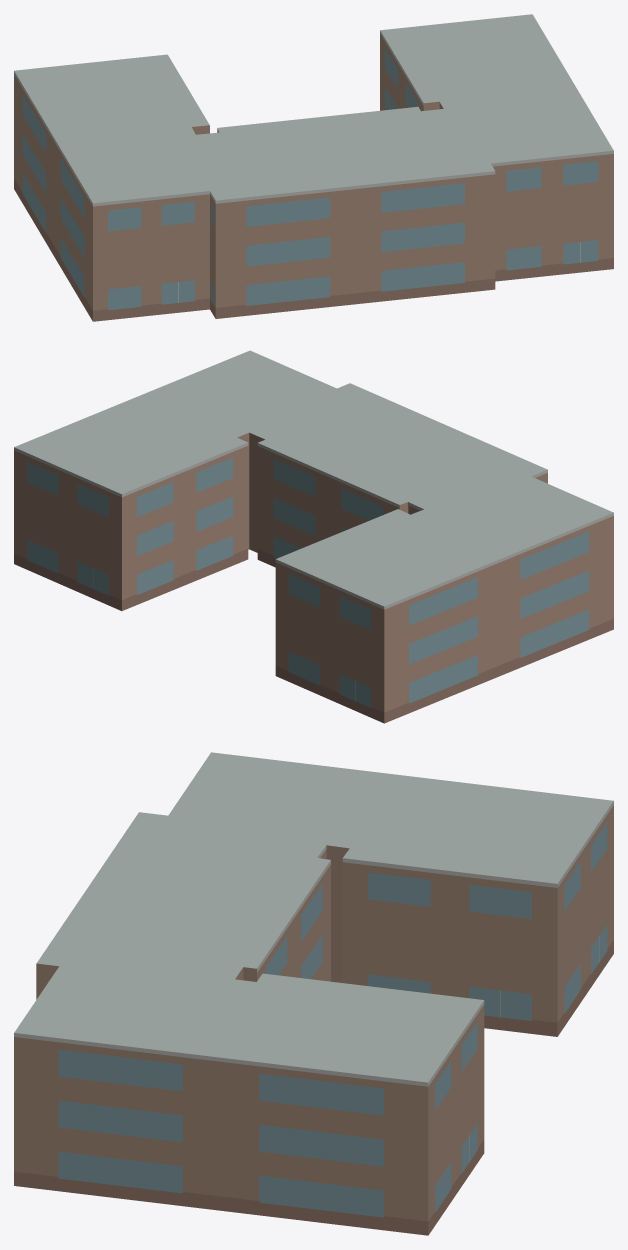
File: survey-upis-32808510.glb
The picture shows the model from 3 angles, top to bottom: view 1: azimuth 30°, elevation 25°; view 2: azimuth 150°, elevation 25°; view 3: azimuth 270°, elevation 25°; orthographic projection. The views are drawn at different scales.
Visible parts, largest first — view 1: survey-upis-32808510.tmp; view 2: survey-upis-32808510.tmp; view 3: survey-upis-32808510.tmp.
Part boxes in pixels (x1,y1,x2,y2): survey-upis-32808510.tmp: (14,14,613,321); survey-upis-32808510.tmp: (14,350,613,723); survey-upis-32808510.tmp: (14,752,613,1235).
Bounding box in the file's own units: 42.37 × 9.15 × 32.52.
